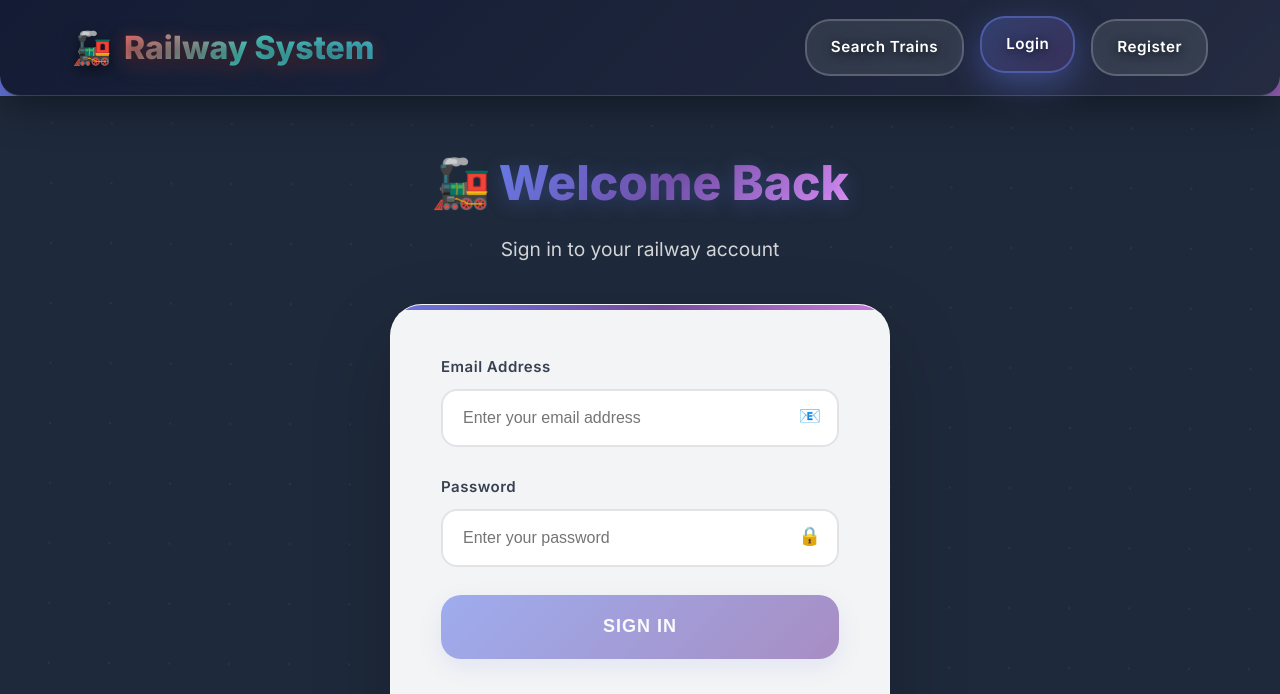
Test: Login Flow › should show error for invalid credentials
The width and height of the screenshot is (1280, 694).
In the field labelled "Email Address": point(640, 418) [441,389,839,447], type "invalid@test.com"
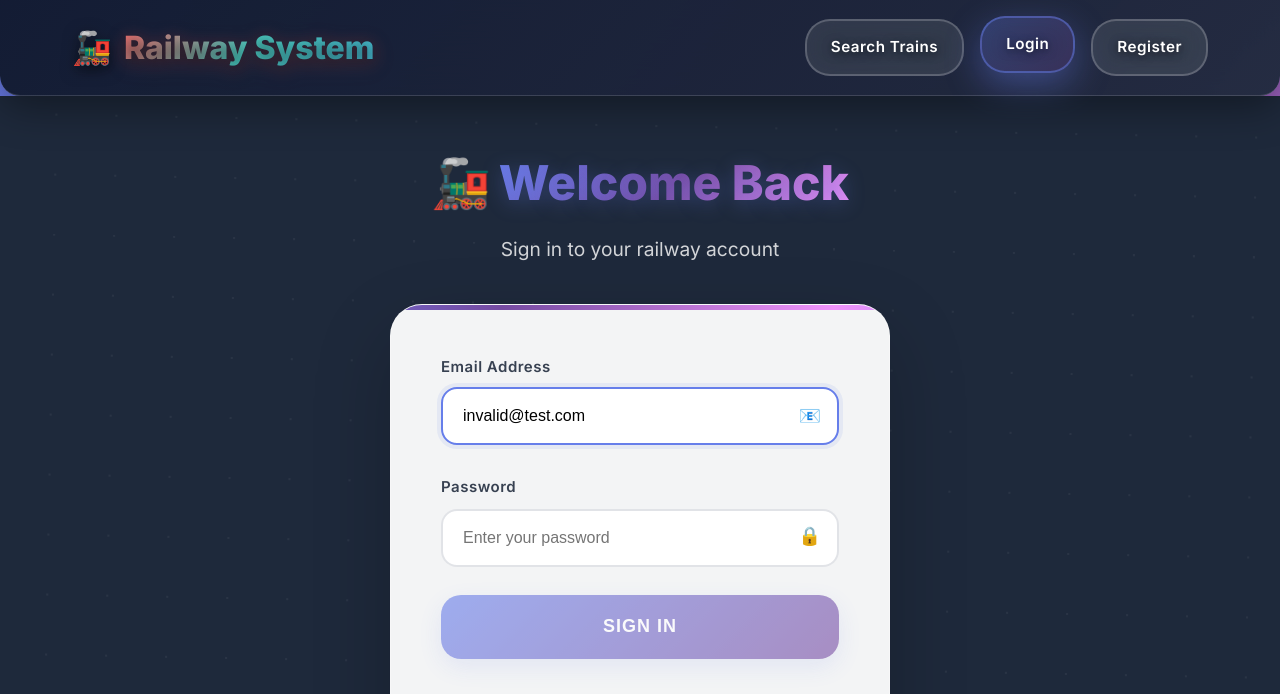
In the password field labelled "Password": point(640, 538) [441,509,839,567], type "wrongpassword"
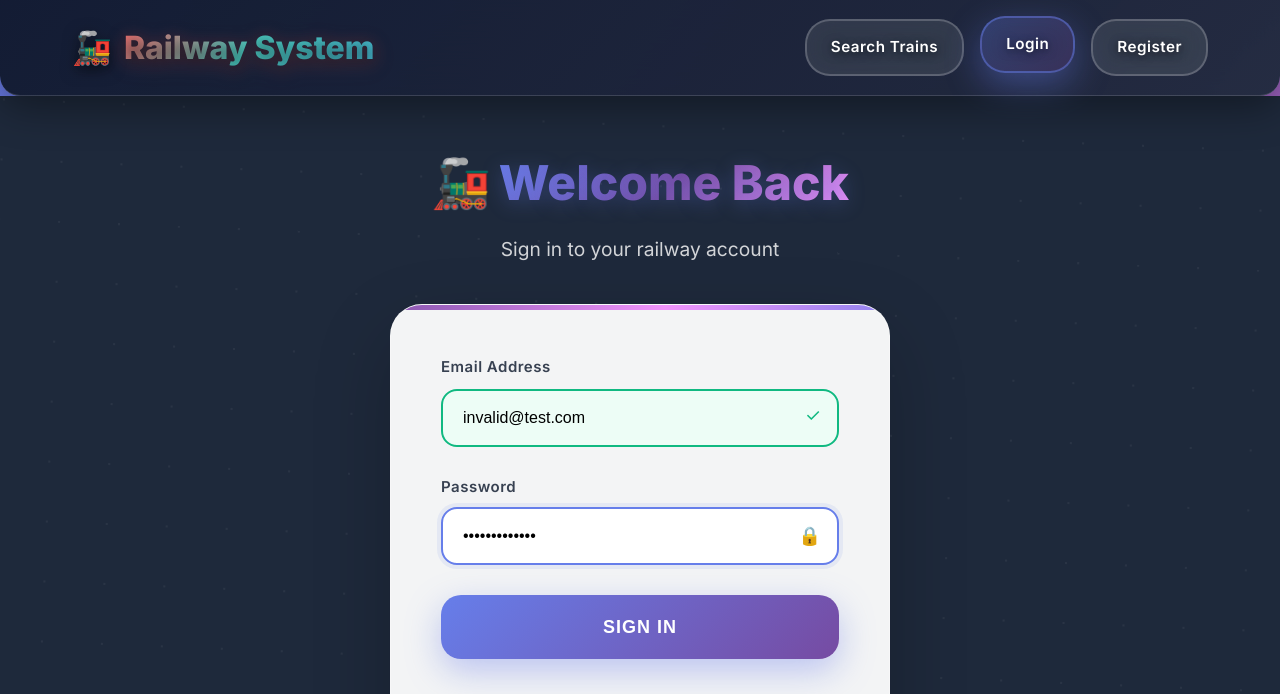
Click the submit button: point(640, 627) [441,595,839,659]
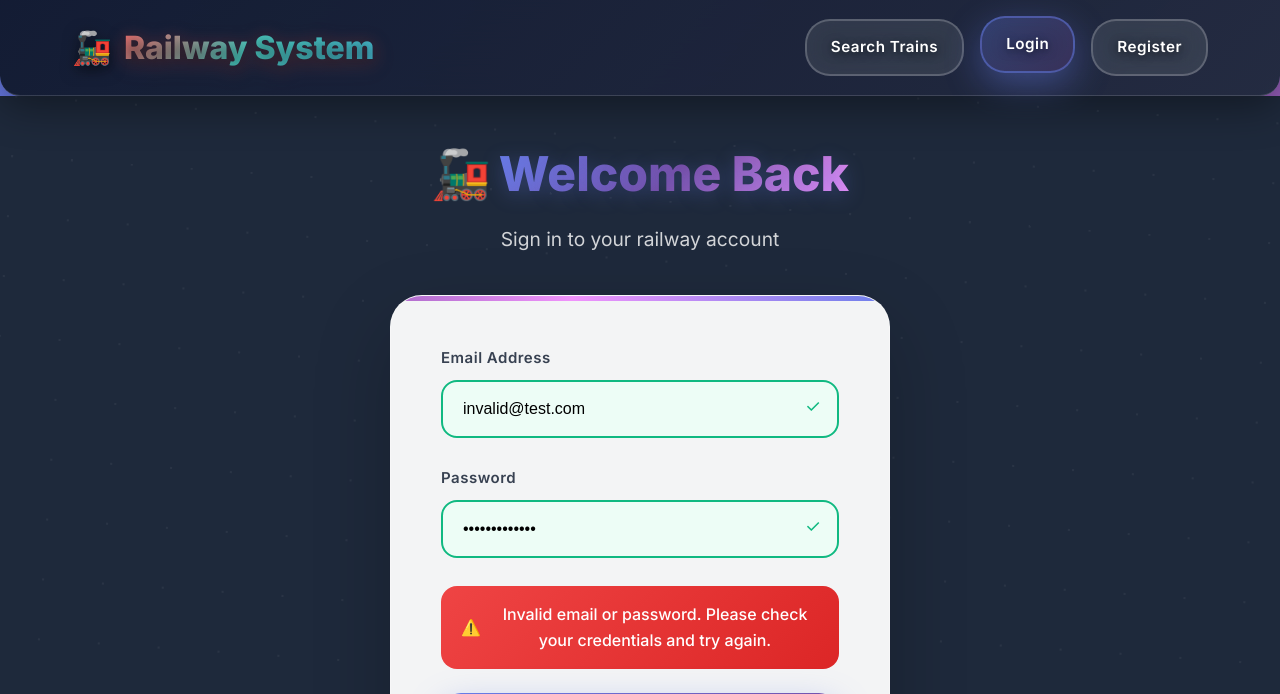
Expected: the text "Invalid email or password" is shown, [503,604,808,650]
